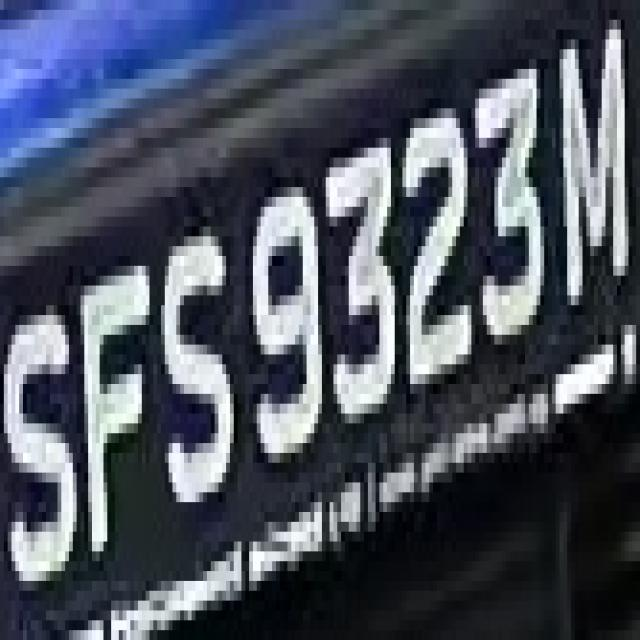2: (387, 109, 479, 434)
3: (314, 128, 402, 453), (468, 59, 556, 355)
9: (249, 168, 334, 502)
F: (65, 226, 157, 581)
M: (552, 10, 632, 354)
S: (150, 216, 242, 542), (4, 276, 80, 630)
